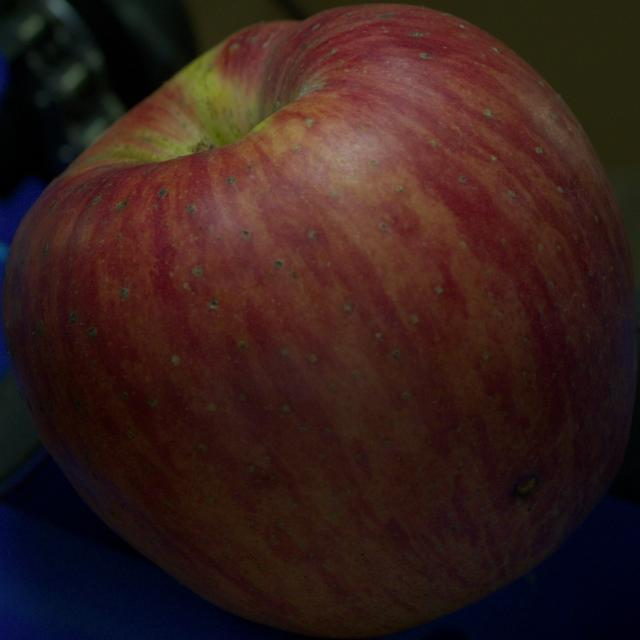apple: (1, 4, 636, 638)
pest: (516, 476, 537, 495)
